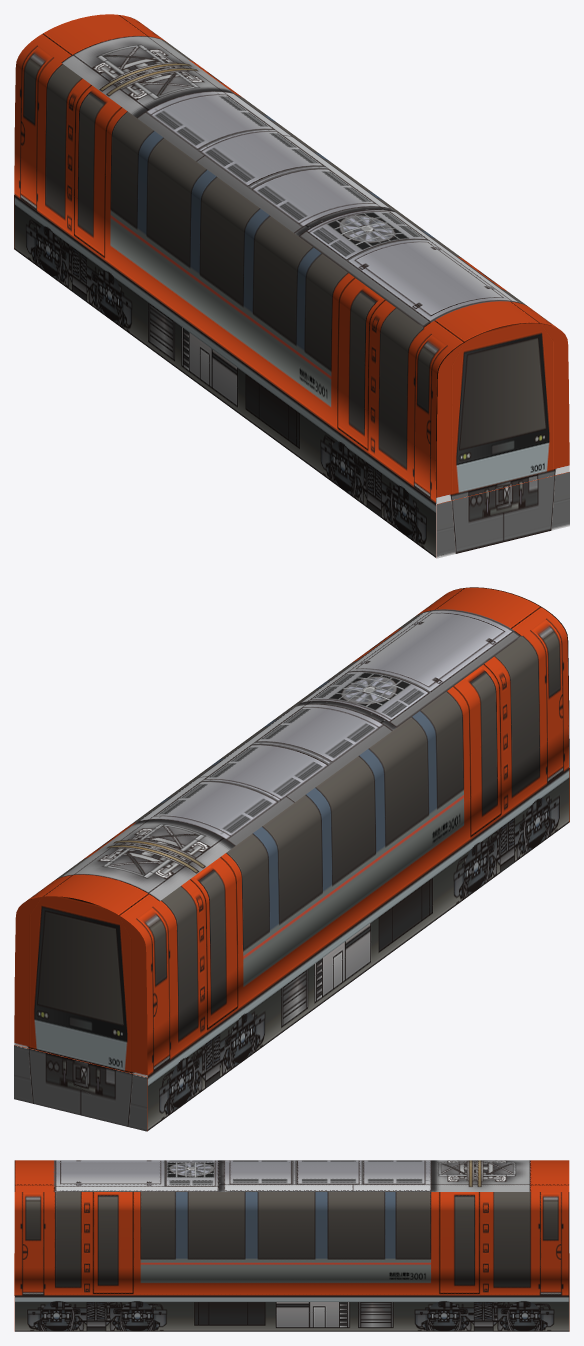
Rendered from car1.glb.
3 renders of one model, top to bottom at view 1: azimuth 30°, elevation 25°; view 2: azimuth 150°, elevation 25°; view 3: azimuth 270°, elevation 25°, orthographic. The views are drawn at different scales.
Visible parts, largest first — view 1: hakonetozan_3000; view 2: hakonetozan_3000; view 3: hakonetozan_3000.
Boxes of the visible parts, x1,y1,x2,y2 form: hakonetozan_3000: (14,14,569,558); hakonetozan_3000: (14,587,569,1131); hakonetozan_3000: (14,1160,569,1331).
Bounding box in the file's own units: 2.57 × 3.97 × 14.16.
6 materials, 5 textured.
